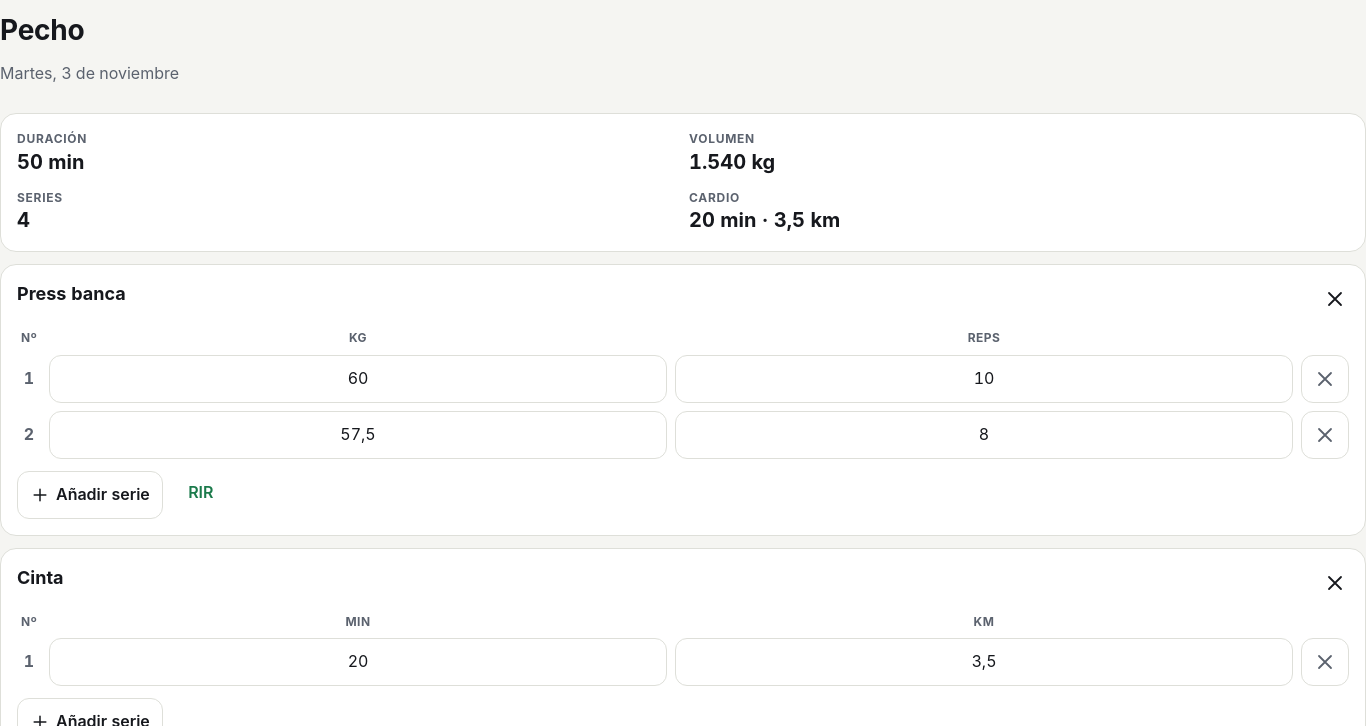
Scenario: WorkoutDetail: edición › Guardar cambios está desactivado hasta que algo cambia
Replace the text in the field named "Peso, serie 1 de Press banca" with "62,5" at (358, 378), box [49, 354, 667, 402]
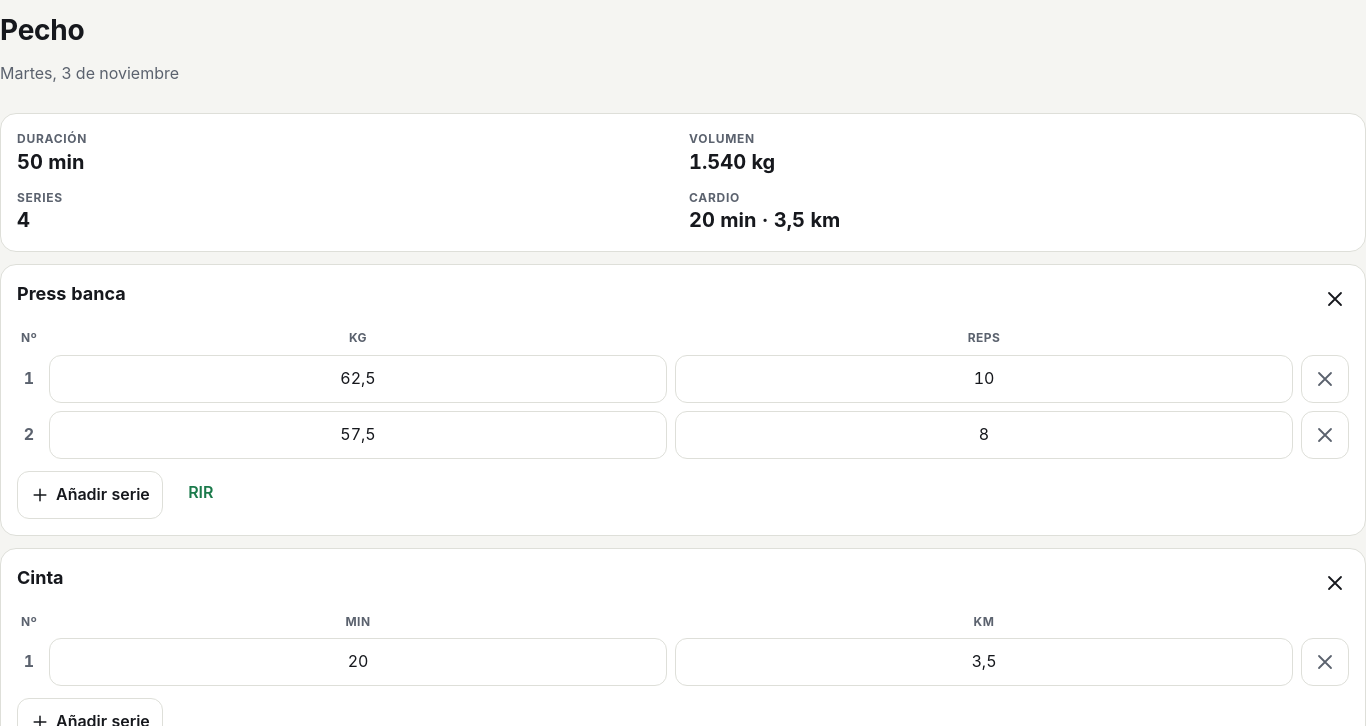
Volver al valor de antes lo deja como estaba.
Replace the text in the field named "Peso, serie 1 de Press banca" with "60" at (358, 378), box [49, 354, 667, 402]
(page scrolled)
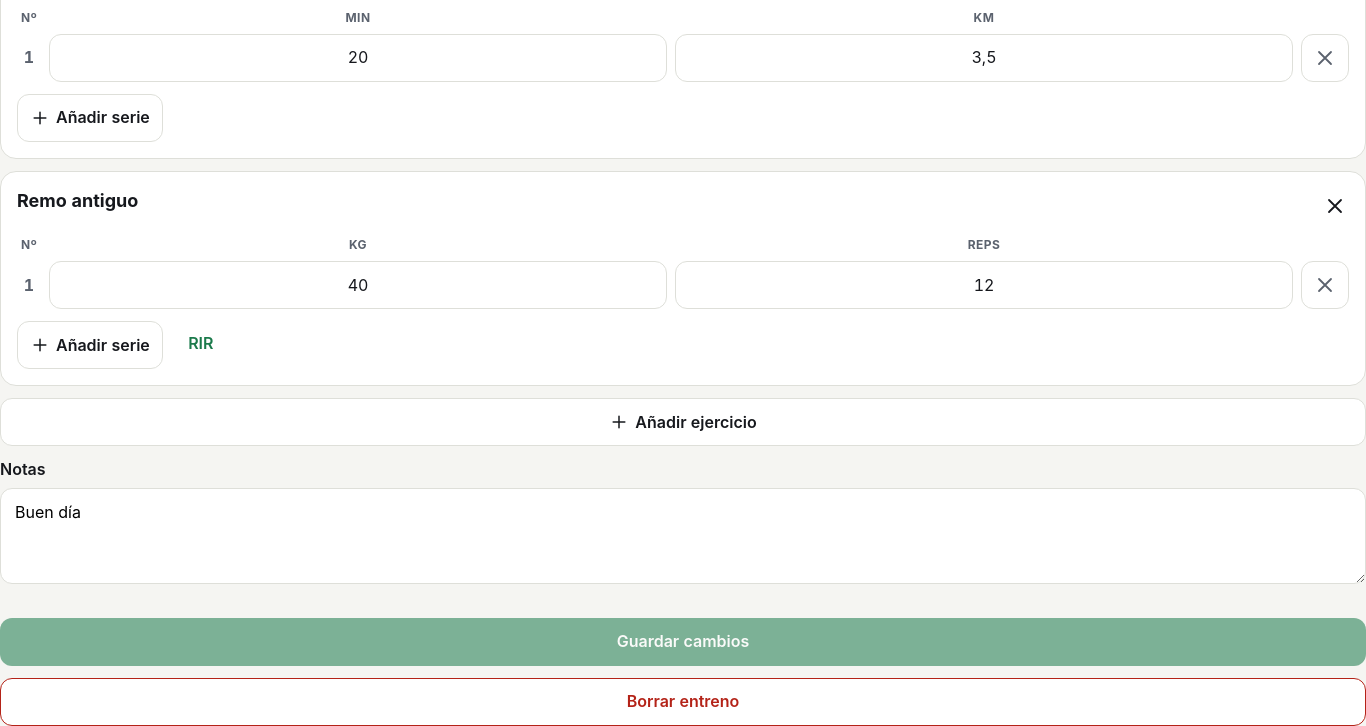
expect the button "Guardar cambios" is disabled: met, box [0, 618, 1365, 666]
